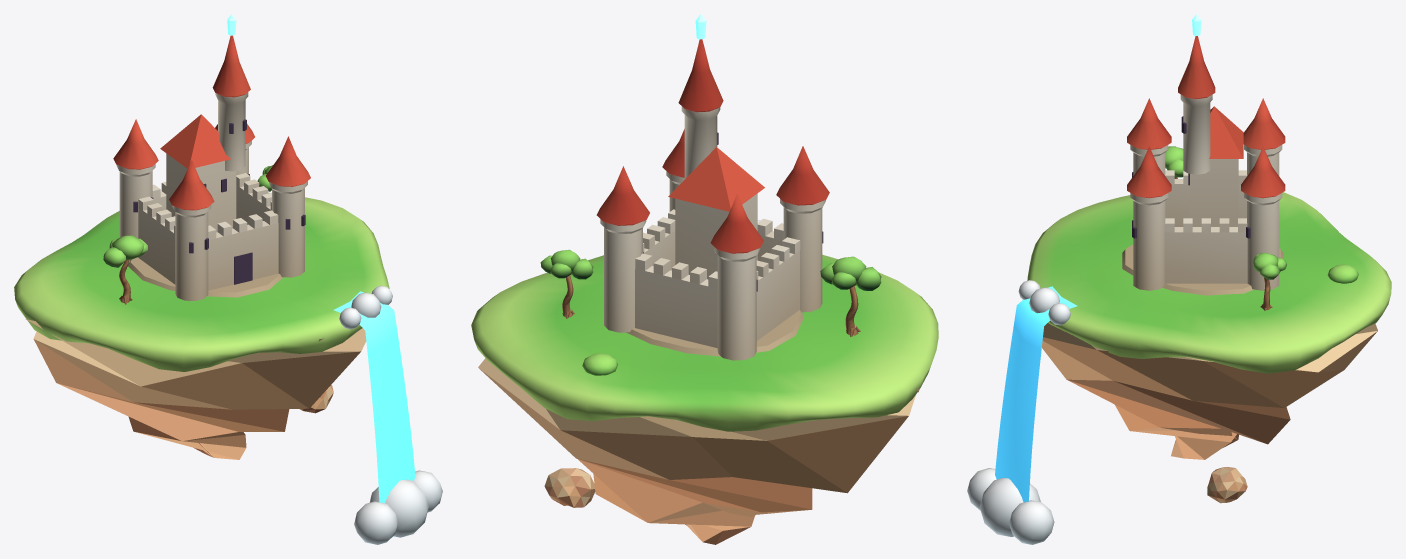
Rendered from island_castle.glb.
3 renders of one model, left to right at view 1: azimuth 30°, elevation 25°; view 2: azimuth 150°, elevation 25°; view 3: azimuth 270°, elevation 25°, orthographic. The views are drawn at different scales.
Parts seen in each view (by area): view 1: IslandCastle; view 2: IslandCastle; view 3: IslandCastle.
Boxes of the visible parts, x1,y1,x2,y2 form: IslandCastle: [14, 14, 442, 544]; IslandCastle: [471, 14, 938, 544]; IslandCastle: [967, 14, 1391, 544].
Bounding box in the file's own units: 30.46 × 39.33 × 31.33.
